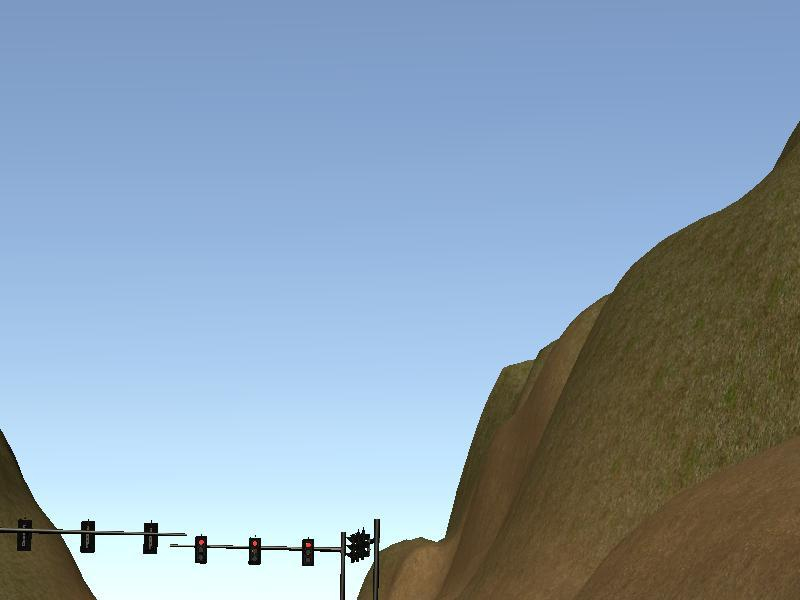Red: (300, 538, 315, 568), (194, 533, 207, 563), (249, 536, 261, 564)
